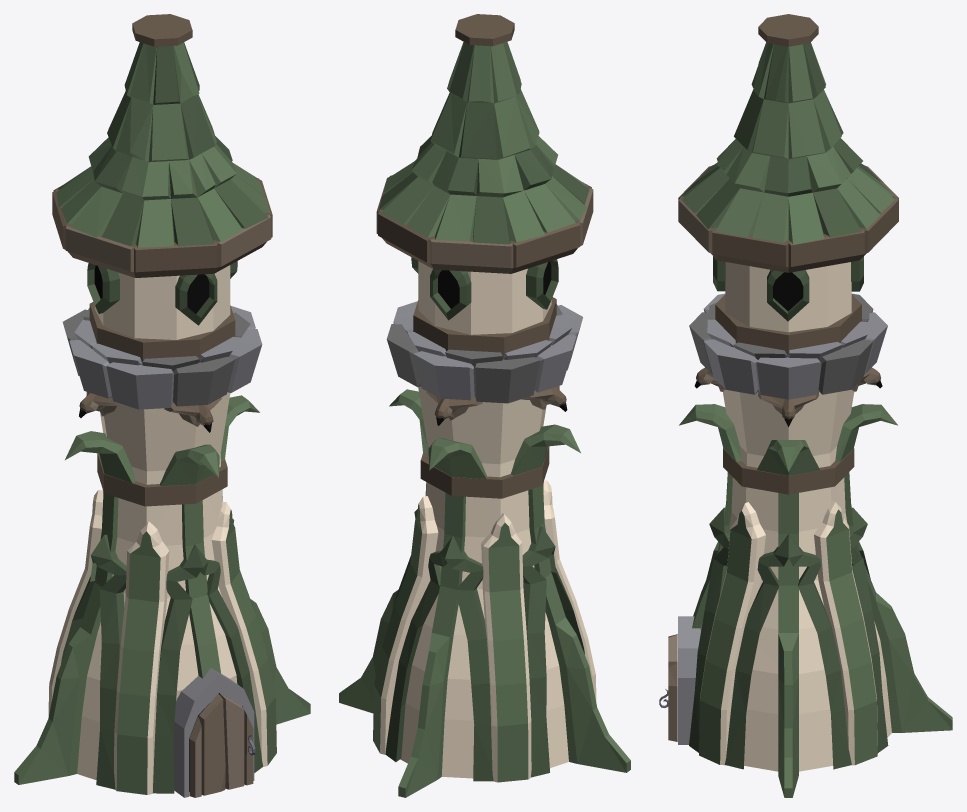
File: _archer_tower_LVL_3.fbx
The picture shows the model from 3 angles, left to right: view 1: azimuth 30°, elevation 25°; view 2: azimuth 150°, elevation 25°; view 3: azimuth 270°, elevation 25°; orthographic projection. The views are drawn at different scales.
Visible parts, largest first — view 1: archer_tower_LVL_3; view 2: archer_tower_LVL_3; view 3: archer_tower_LVL_3.
Boxes of the visible parts, x1,y1,x2,y2 form: archer_tower_LVL_3: (14, 14, 310, 797); archer_tower_LVL_3: (339, 14, 630, 797); archer_tower_LVL_3: (659, 14, 952, 797).
Bounding box in the file's own units: 639 × 1507 × 571.
